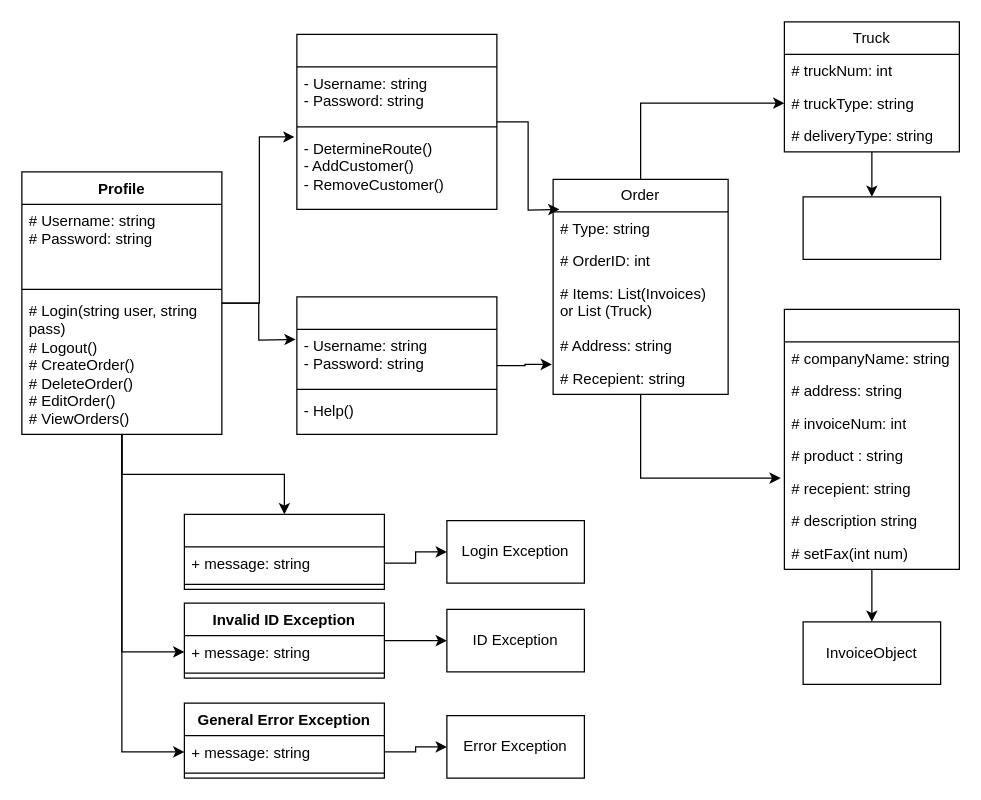
The diagram is 981 pixels wide and 800 high, and some of its shapes have lost their labels. Here are the shapes that lost their labels. From the top down, the box of each, then its label:
(296, 33, 497, 209): SalesRep
(802, 196, 941, 259): TruckObject
(296, 296, 497, 434): Customer
(783, 308, 959, 569): Invoices
(183, 513, 384, 589): Invalid Login Exception
